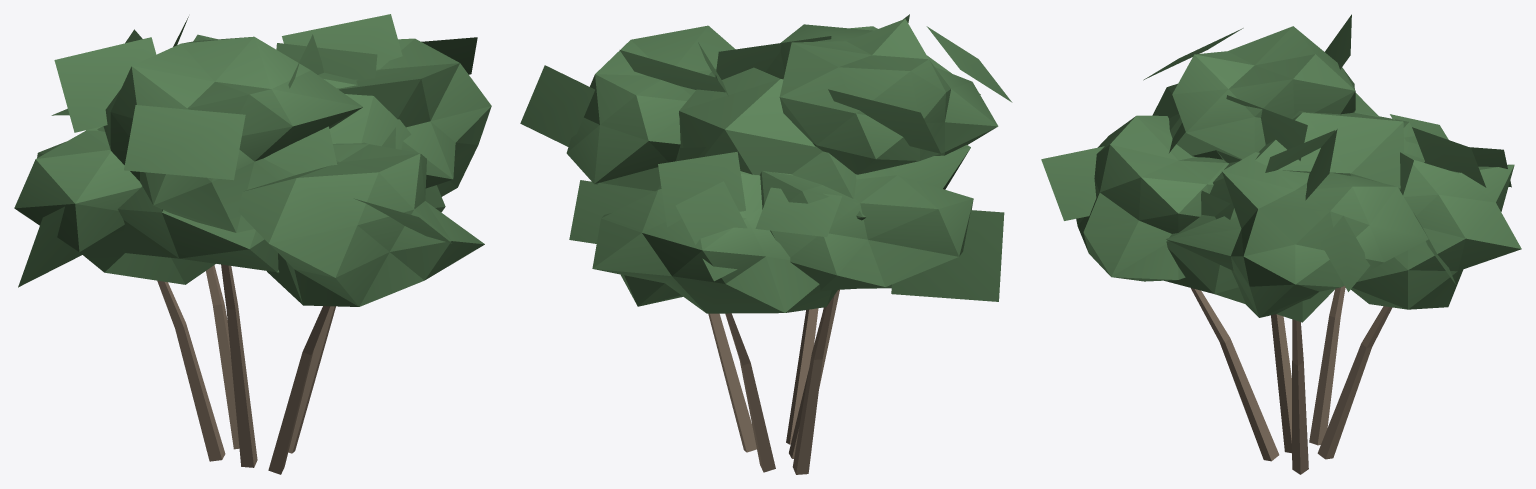
Rendered from veg-wax-myrtle.glb.
3 views of the same model, side by side, from view 1: azimuth 30°, elevation 25°; view 2: azimuth 150°, elevation 25°; view 3: azimuth 270°, elevation 25° (orthographic). The views are drawn at different scales.
Visible parts, largest first — view 1: LOD0; view 2: LOD0; view 3: LOD0.
Boxes of the visible parts, left/top/right/bottom form: LOD0: left=14, top=14, right=491, bottom=474; LOD0: left=520, top=14, right=1012, bottom=474; LOD0: left=1041, top=14, right=1521, bottom=474.
Size of what is drawn, in the model's own units: 2.87 by 2.49 by 2.87.
